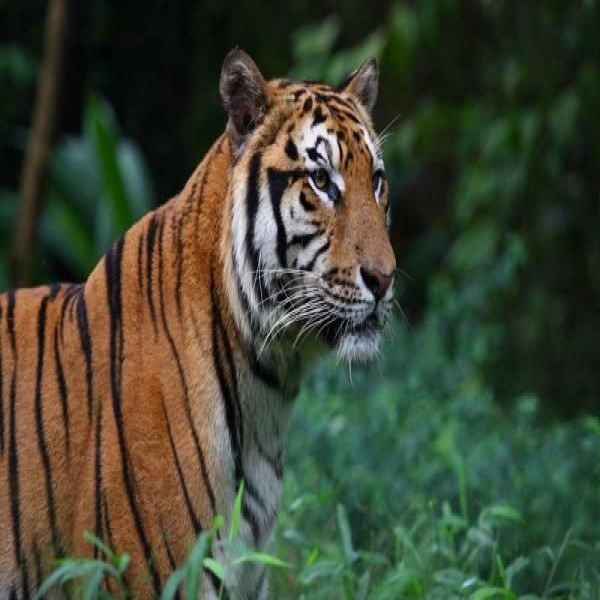Tiger: (3, 47, 411, 594)
